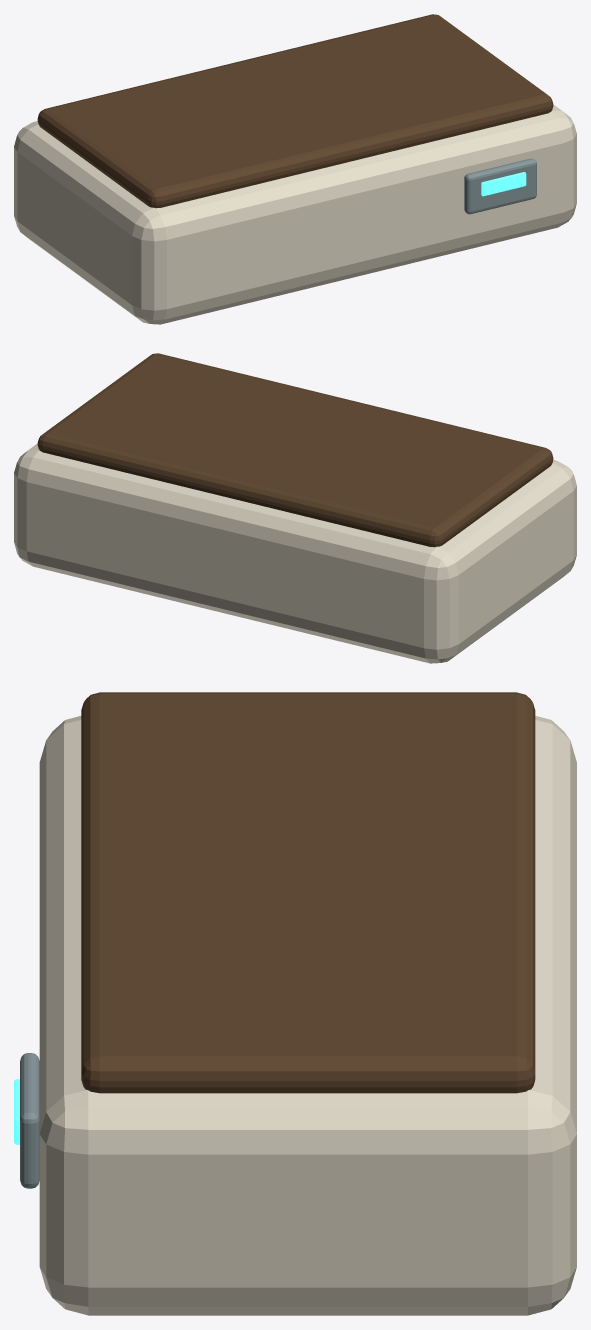
Rendered from planter.glb.
3 views of the same model, one above another, from view 1: azimuth 30°, elevation 25°; view 2: azimuth 150°, elevation 25°; view 3: azimuth 270°, elevation 25° (orthographic). The views are drawn at different scales.
Visible parts, largest first — view 1: planter__ivory, planter__soil, planter__steel, planter__cyan; view 2: planter__ivory, planter__soil; view 3: planter__soil, planter__ivory, planter__steel.
Part boxes in pixels (x1,y1,x2,y2): planter__ivory: (14, 104, 576, 324); planter__soil: (37, 14, 553, 208); planter__steel: (464, 158, 536, 214); planter__cyan: (481, 172, 526, 196); planter__ivory: (14, 443, 576, 663); planter__soil: (37, 353, 553, 547); planter__soil: (81, 692, 535, 1093); planter__ivory: (39, 715, 576, 1315); planter__steel: (20, 1053, 39, 1188).
Size of the model in its own units: 2 by 0.565 by 1.15.
